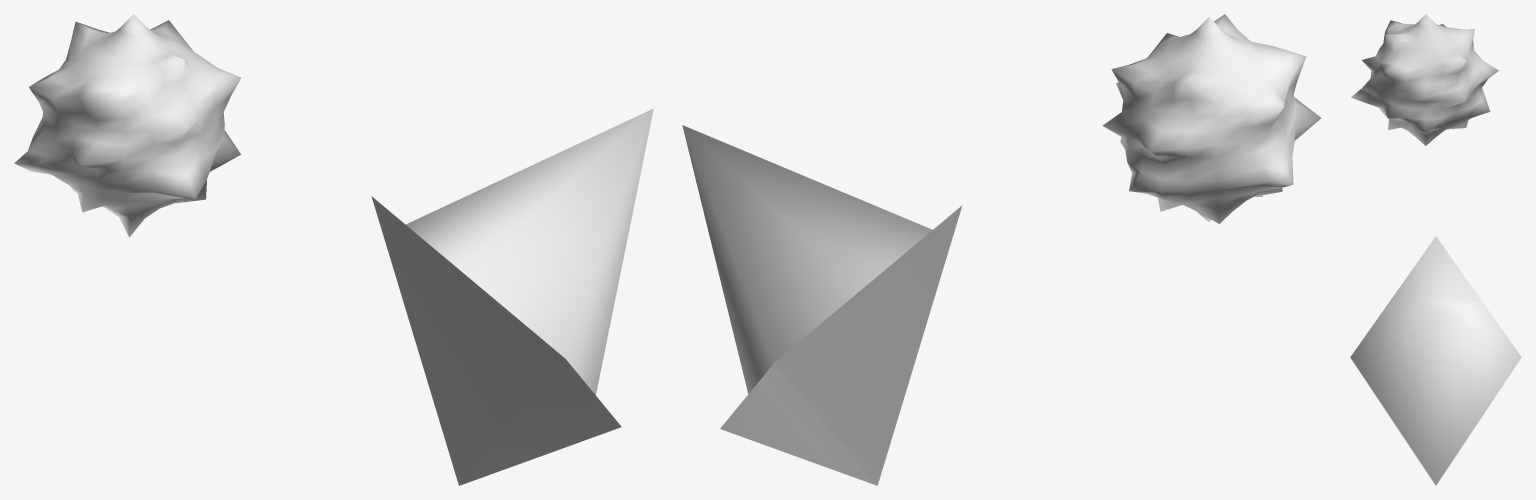
Rendered from voz_morfacontextura.fbx.
The picture shows the model from 3 angles, left to right: view 1: azimuth 30°, elevation 25°; view 2: azimuth 150°, elevation 25°; view 3: azimuth 270°, elevation 25°; orthographic projection. The views are drawn at different scales.
Visible parts, largest first — view 1: pPyramid2; view 2: pPyramid2; view 3: pPyramid2.
Boxes of the visible parts, left/top/right/bottom form: pPyramid2: left=14, top=14, right=653, bottom=485; pPyramid2: left=682, top=14, right=1321, bottom=485; pPyramid2: left=1350, top=14, right=1521, bottom=485.
Size of the model in its own units: 17.48 by 14.71 by 6.78.
1 material, 1 textured.
